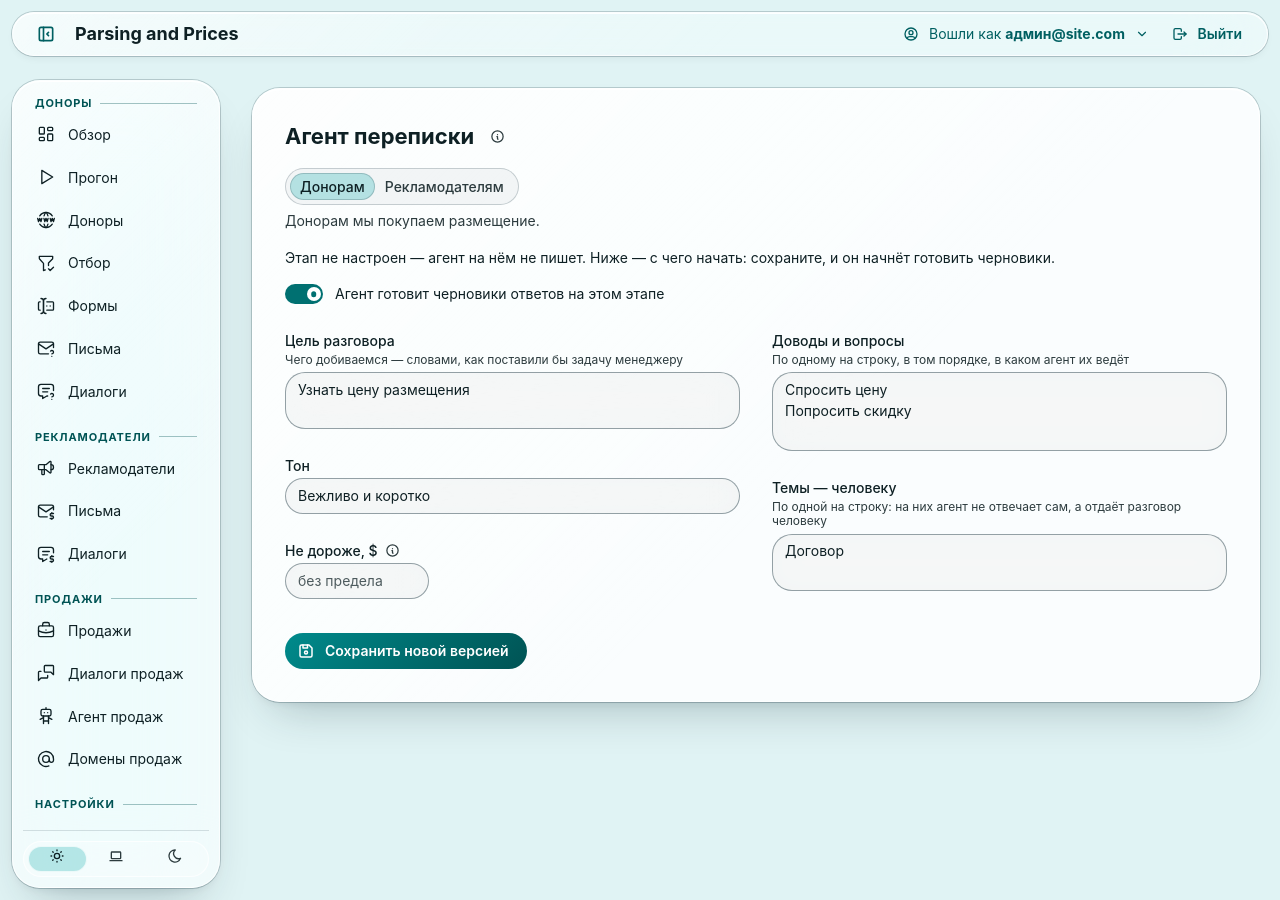
Scenario: агент переписки › у этапов свои настройки, и набранное не теряется при переключении
Replace the text in the text box labelled "Цель разговора" with "Своя цель" at (512, 401), box [285,372,740,429]
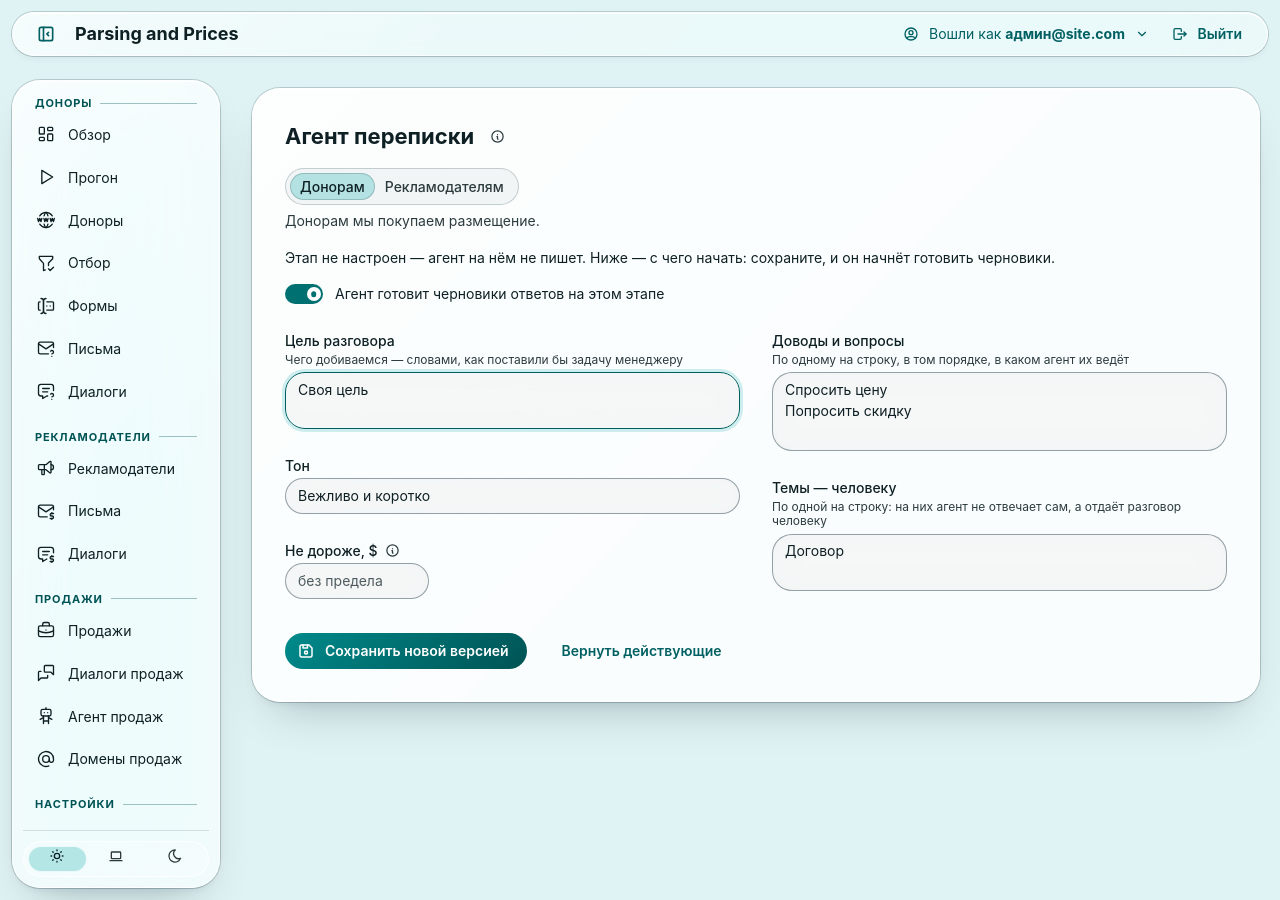
Click the text "Рекламодателям".
click(444, 187)  # box [385,176,504,198]
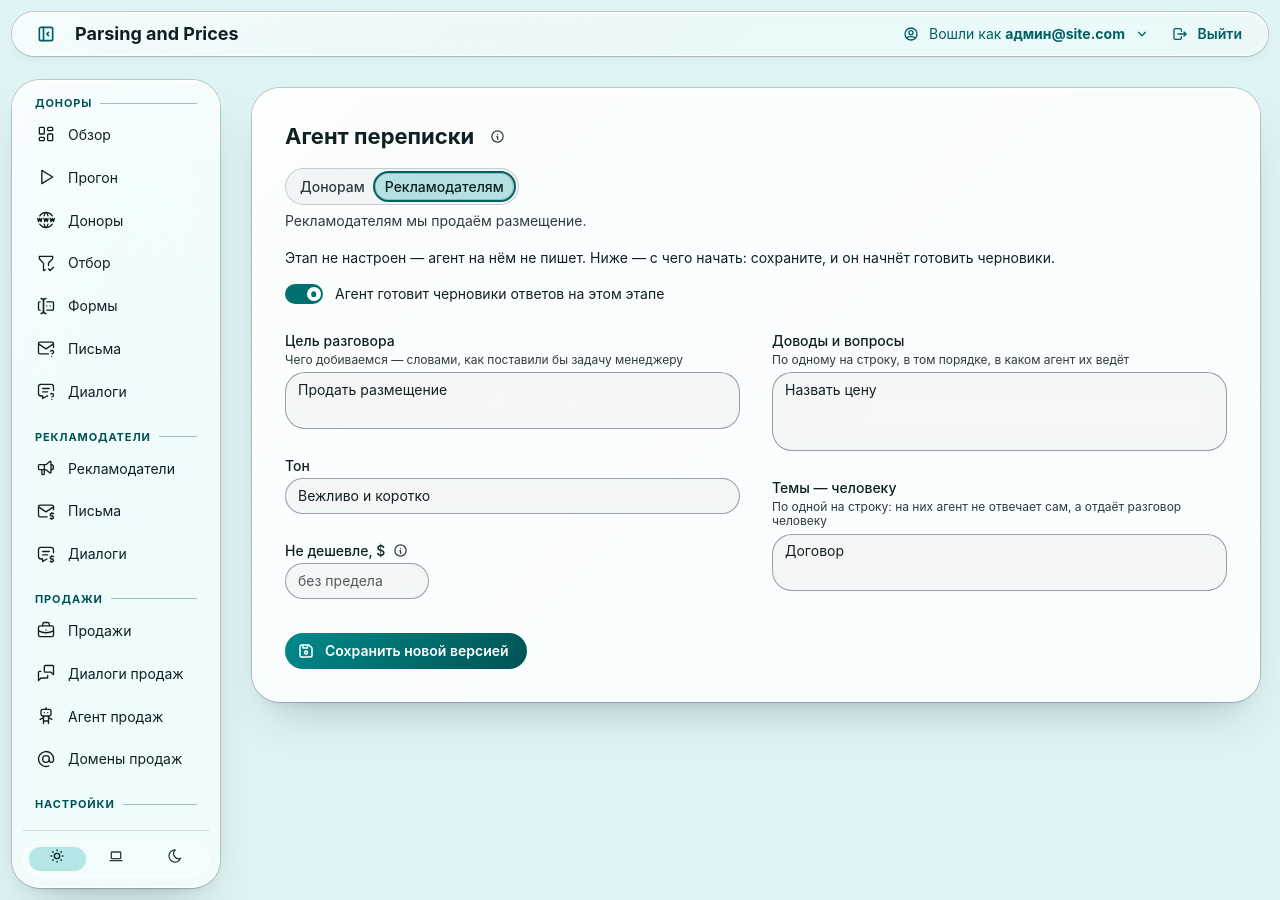
expect the field named "Не дешевле, $" is shown: met, box [285,563,429,599]
expect the text box labelled "Цель разговора" holds "Продать размещение": met, box [285,372,740,429]
Click the text "Донорам".
click(332, 187)  # box [300,176,365,198]
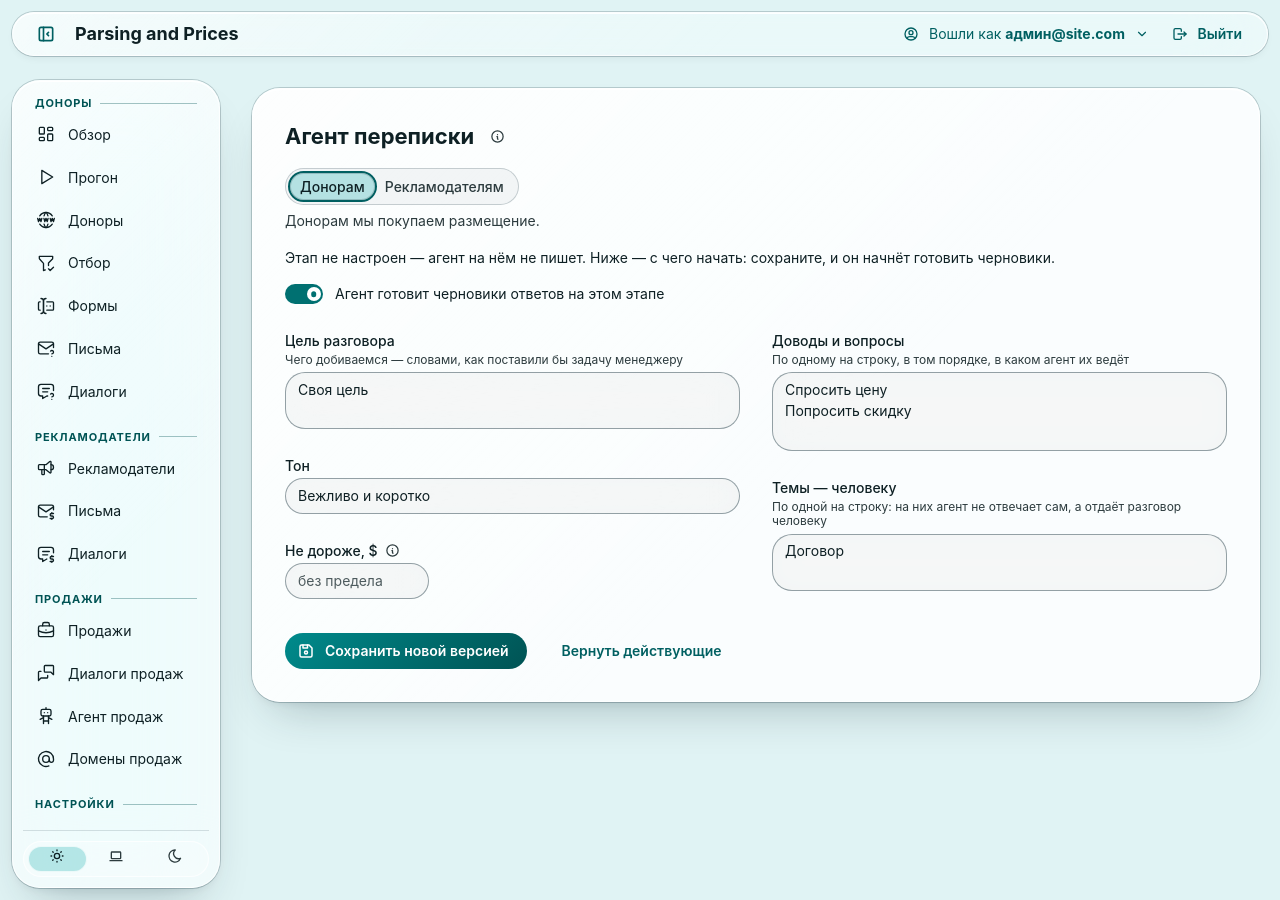
expect the text box labelled "Цель разговора" holds "Своя цель": met, box [285,372,740,429]
